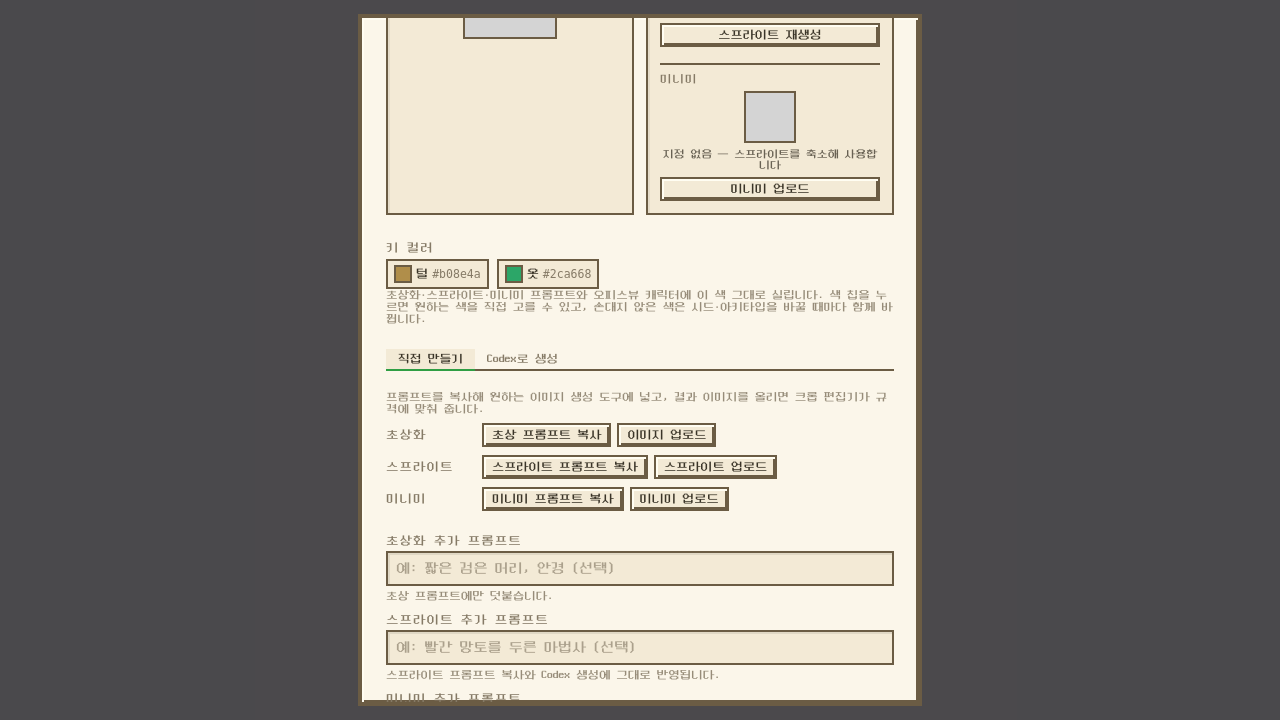
Test: 외형 모드 탭 › 'Codex로 생성' 탭으로 바꾸면 직접 만들기 항목이 사라지고 생성 버튼이 나온다
(page scrolled)
Click the tab "Codex로 생성".
click(523, 360)  # box [475, 349, 570, 371]
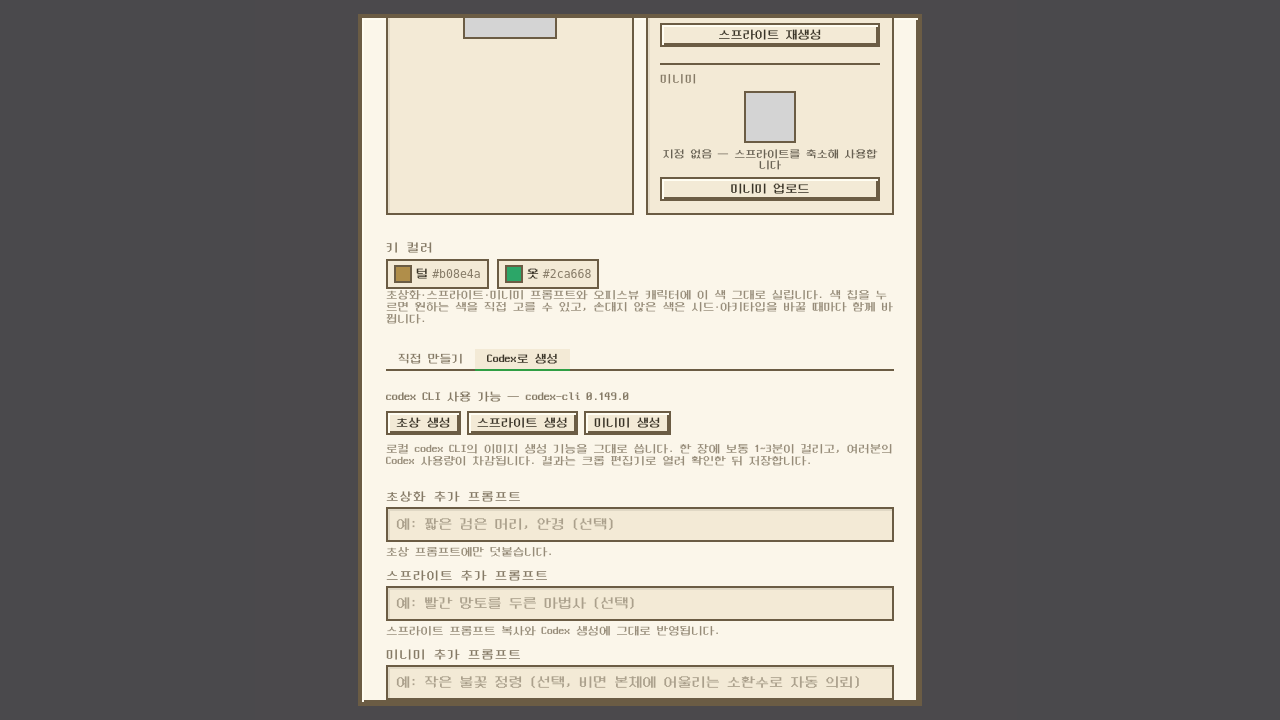
Expected: the text "codex CLI 사용 가능 — codex-cli 0.149.0" is shown, [386, 391, 629, 403]
Expected: the button "초상 프롬프트 복사" is gone
Expected: the button "초상 생성" is shown, [386, 411, 461, 435]
